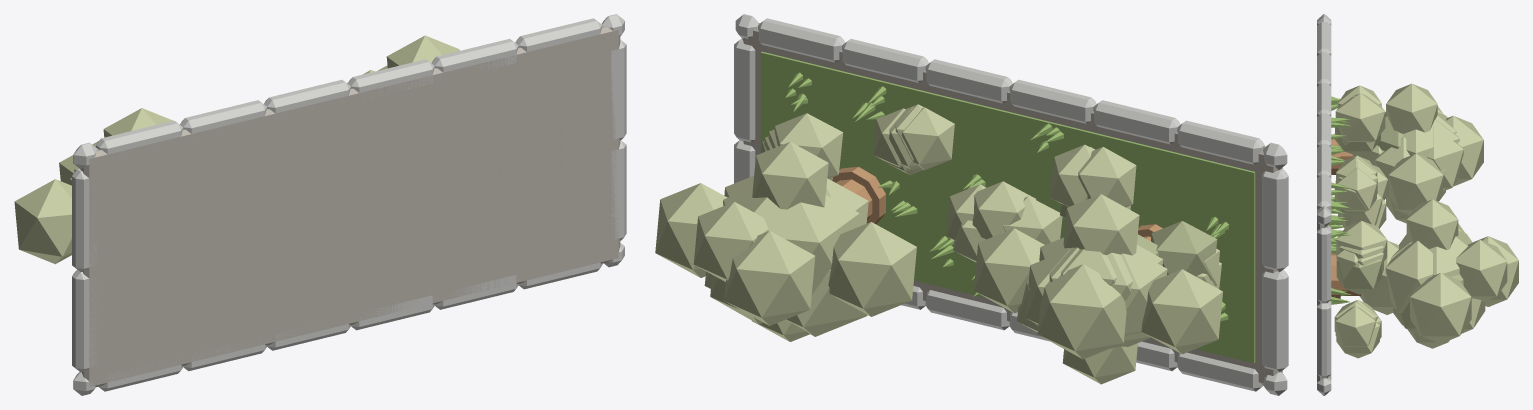
File: 16-grass-patch.glb
3 renders of one model, left to right at view 1: azimuth 30°, elevation 25°; view 2: azimuth 150°, elevation 25°; view 3: azimuth 270°, elevation 25°, orthographic. The views are drawn at different scales.
Parts seen in each view (by area): view 1: SlabBody, SmallFlankL, CurbL708, CurbL898, CurbB87f, CurbB9dd, CurbB465, CurbB721, CurbB5c3, CurbBb3b, CurbR898, CurbR708 (+8 smaller); view 2: GrassBed, SlabBody, BigFlankL, BigCrown, SmallCrown, SmallFlankL, BigCore, BigBack, SmallFlankR, SmallBack, BigCrown2, BigFlankR (+33 smaller); view 3: BigFlankR, SmallFlankR, BigCrown2, BigLeaf8, BigBack, SmallBack, BushBackL5, SmallCrown, BushFR1, SmallLeaf0, BushRE1, BigCore (+35 smaller).
Boxes of the visible parts, x1,y1,x2,y2 form: SlabBody: (80, 26, 620, 387); SmallFlankL: (14, 179, 71, 264); CurbL708: (72, 269, 97, 372); CurbL898: (72, 168, 97, 271); CurbB87f: (347, 59, 434, 99); CurbB9dd: (431, 38, 518, 73); CurbB465: (96, 120, 183, 159); CurbB721: (264, 79, 350, 117); CurbB5c3: (180, 100, 267, 133); CurbBb3b: (515, 18, 602, 51); CurbR898: (611, 39, 626, 140); CurbR708: (611, 140, 626, 240); GrassBed: (760, 51, 1255, 363); SlabBody: (742, 23, 1282, 384); BigFlankL: (828, 222, 916, 316); BigCrown: (724, 231, 815, 325); SmallCrown: (1037, 264, 1126, 359); SmallFlankL: (1141, 269, 1222, 354); BigCore: (723, 188, 859, 295); BigBack: (752, 141, 828, 209); SmallFlankR: (973, 228, 1044, 313); SmallBack: (1063, 194, 1139, 255); BigCrown2: (693, 202, 768, 281); BigFlankR: (655, 183, 727, 277); BigFlankR: (1410, 273, 1471, 343); SmallFlankR: (1388, 153, 1443, 214); BigCrown2: (1456, 240, 1507, 301); BigLeaf8: (1385, 240, 1432, 313); BigBack: (1406, 199, 1458, 249); SmallBack: (1386, 83, 1437, 133); BushBackL5: (1335, 93, 1385, 142); SmallCrown: (1446, 115, 1483, 186); BushFR1: (1335, 306, 1375, 346); SmallLeaf0: (1427, 126, 1463, 190); BushRE1: (1336, 220, 1387, 261); BigCore: (1390, 230, 1472, 276).
Bounding box in the file's own units: 2.3 × 1 × 0.9787.
